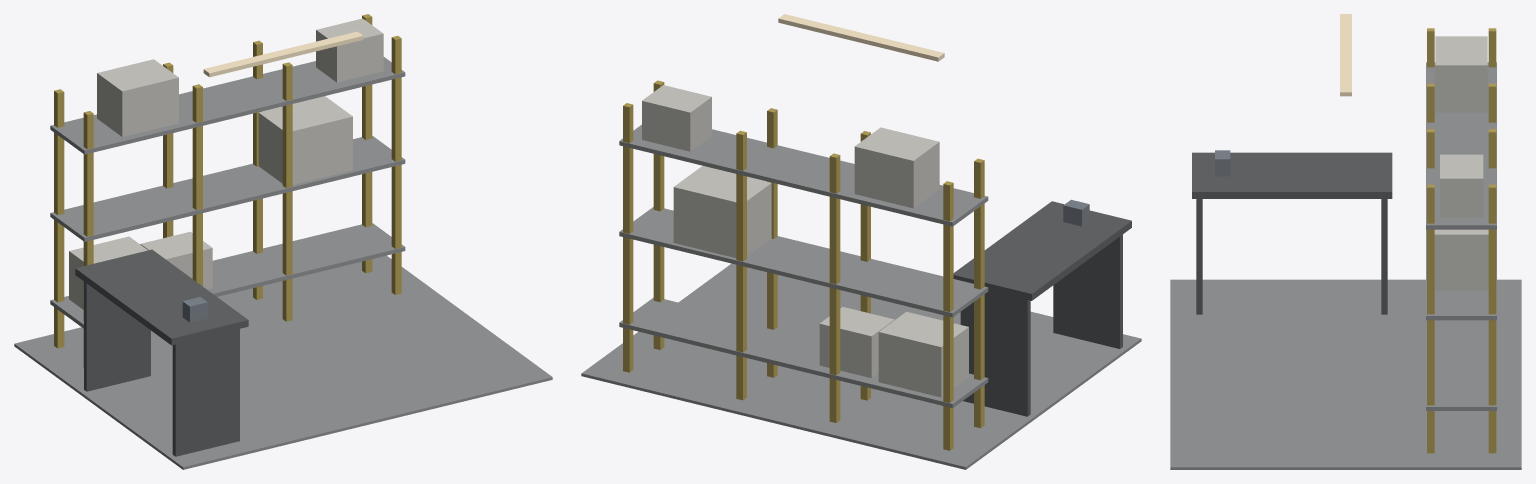
File: shed_interior.glb
The picture shows the model from 3 angles, left to right: view 1: azimuth 30°, elevation 25°; view 2: azimuth 150°, elevation 25°; view 3: azimuth 270°, elevation 25°; orthographic projection. The views are drawn at different scales.
Parts seen in each view (by area): view 1: shed_interior; view 2: shed_interior; view 3: shed_interior.
Part boxes in pixels (left/top/right/bottom): shed_interior: left=14, top=14, right=552, bottom=469; shed_interior: left=581, top=14, right=1141, bottom=469; shed_interior: left=1170, top=14, right=1521, bottom=469.
Size of the model in its own units: 2.89 by 2.32 by 2.28.
